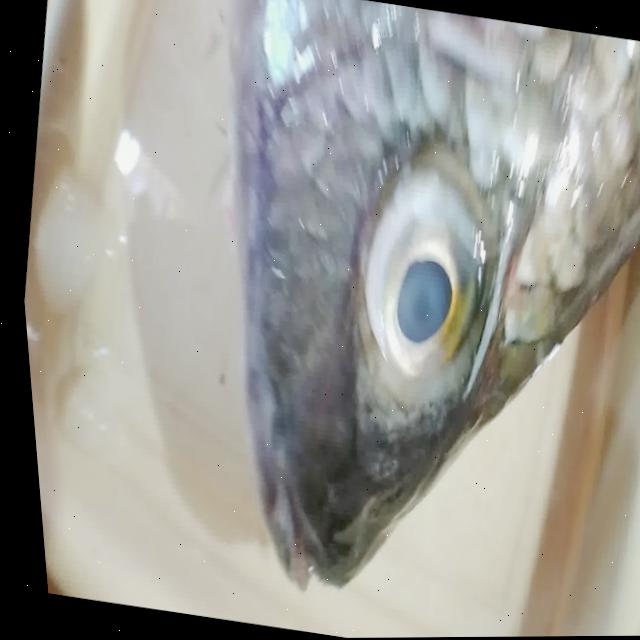Fresh: (313, 119, 523, 422)
